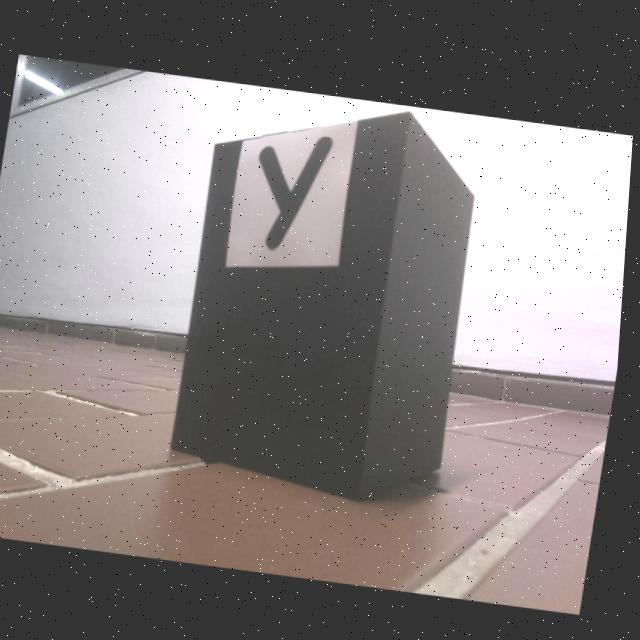Y: (261, 133, 334, 246)
